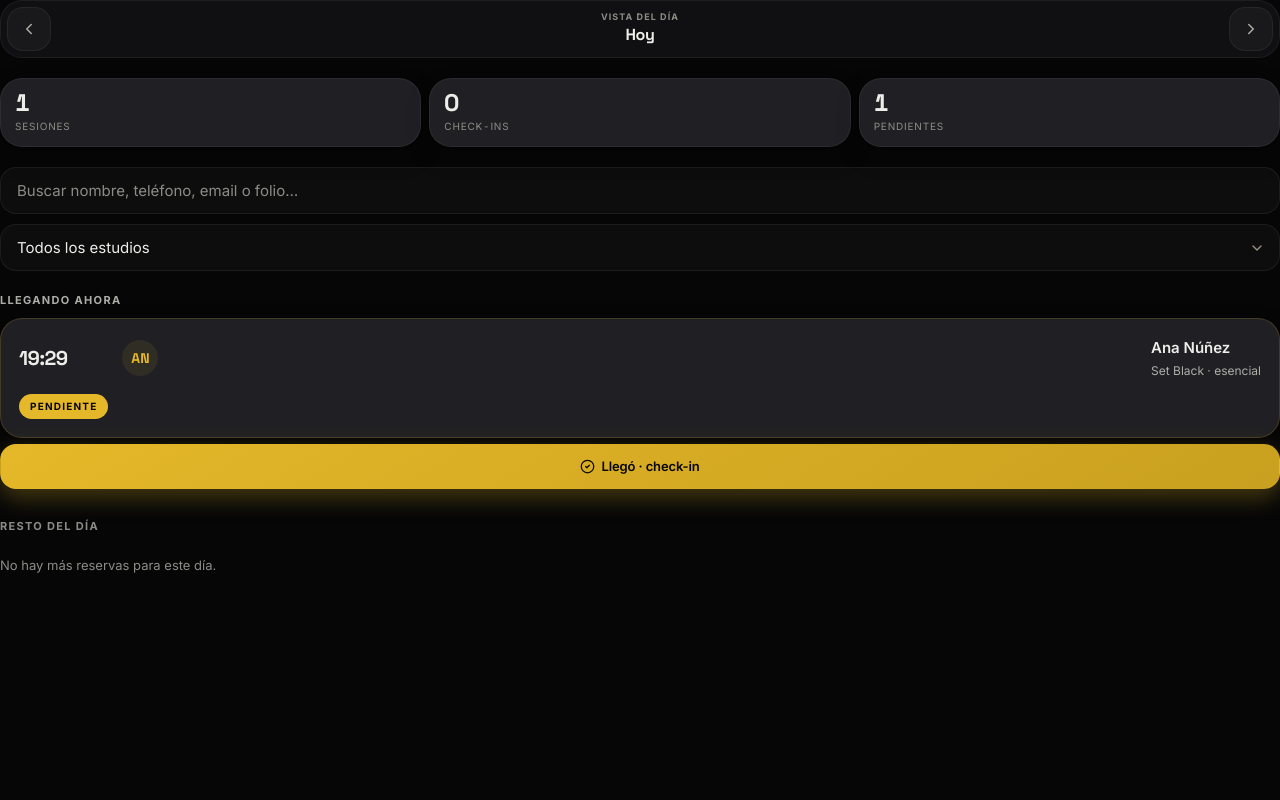
Test: ReservasHoyView · atajos de mostrador › una reserva que YA empezó no ofrece cancelar (solo no-show)
Click the text "Ana Núñez".
click(1191, 348)  # box [1151,338,1230,357]
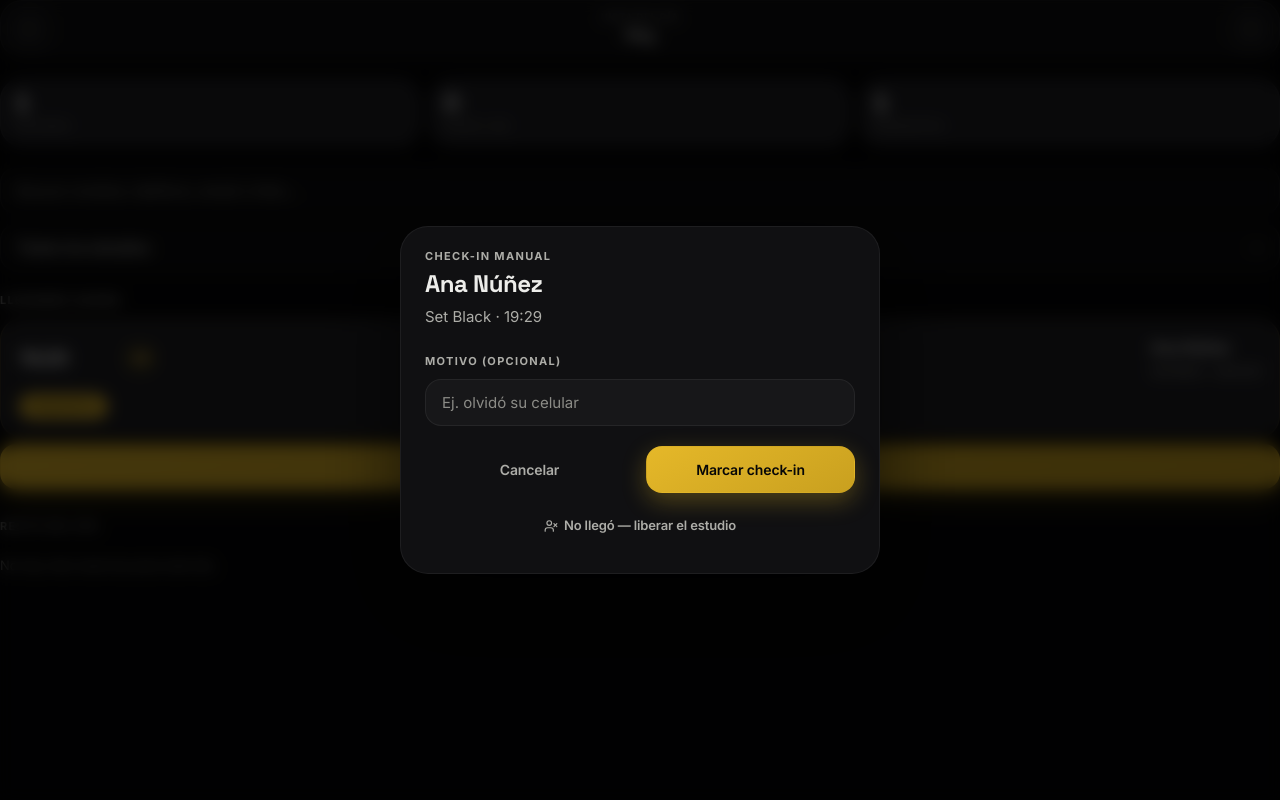
Check: the button "No llegó — liberar el estudio" is shown, box [425,503,855,549]
